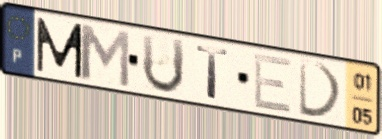D: (297, 57, 346, 122)
E: (252, 52, 294, 117)
M: (76, 20, 132, 90), (34, 15, 85, 81)
T: (194, 43, 232, 102)
U: (140, 31, 187, 96)
